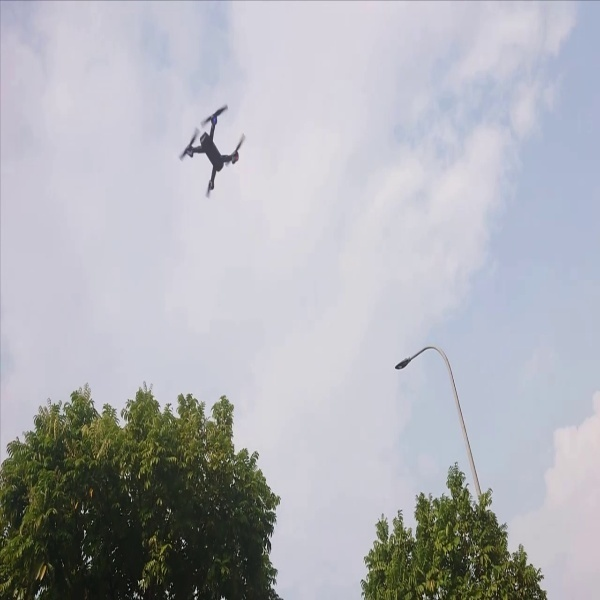drone: (174, 95, 255, 203)
